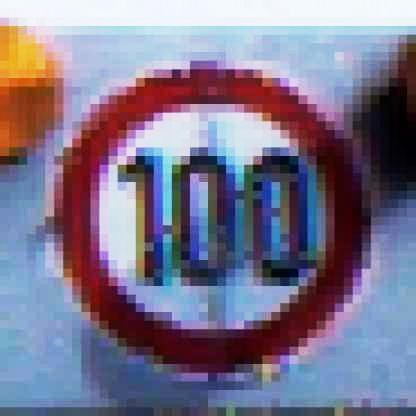Speed Limit -100-: (44, 58, 377, 380)
